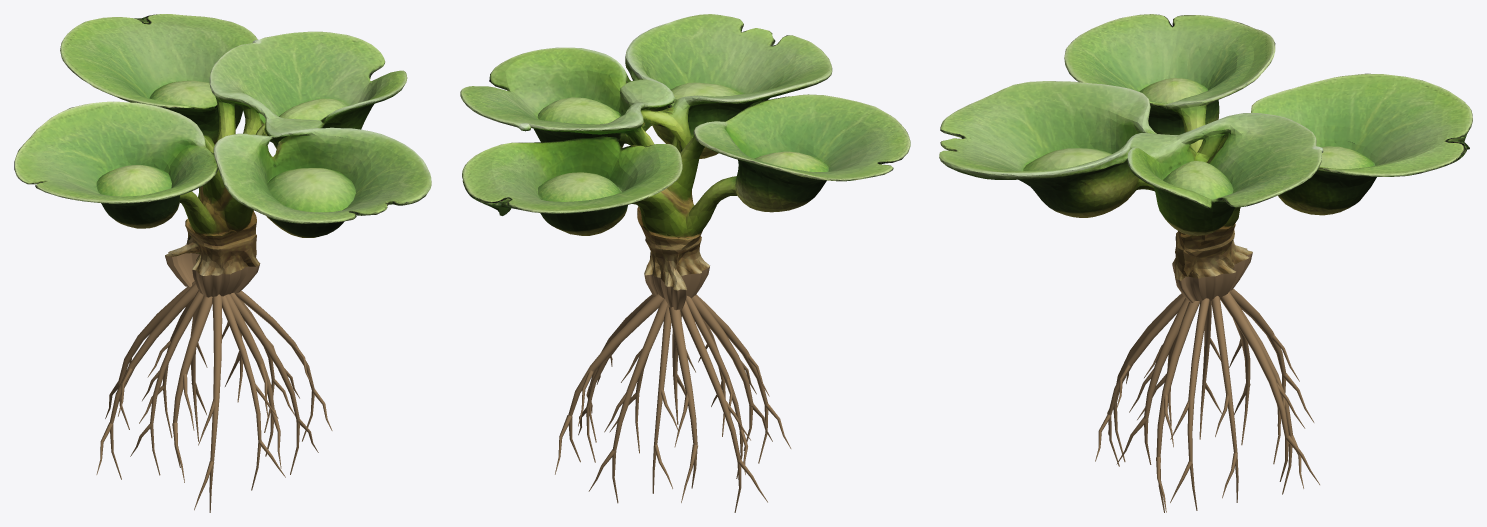
The picture shows the model from 3 angles, left to right: view 1: azimuth 30°, elevation 25°; view 2: azimuth 150°, elevation 25°; view 3: azimuth 270°, elevation 25°; orthographic projection. The views are drawn at different scales.
Visible parts, largest first — view 1: world; view 2: world; view 3: world.
Boxes of the visible parts, box(x1,y1,x2,y2) form: world: box(14, 14, 431, 512); world: box(460, 14, 910, 512); world: box(939, 14, 1472, 512).
Bounding box in the file's own units: 0.8671 × 0.7865 × 0.9829.
Materials: 2 (1 with a texture image).
